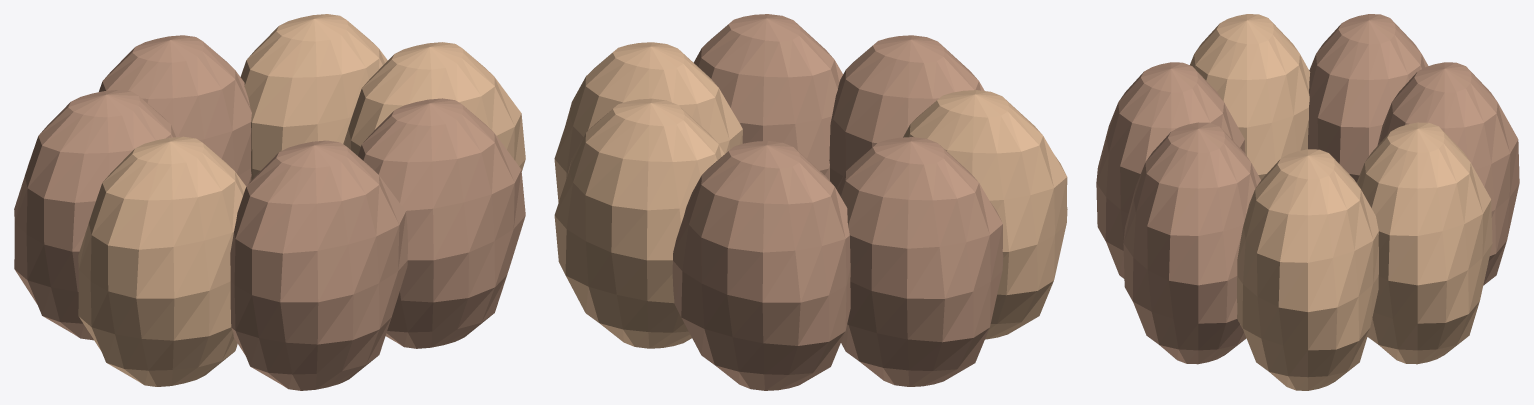
File: cocoa.glb
3 renders of one model, left to right at view 1: azimuth 30°, elevation 25°; view 2: azimuth 150°, elevation 25°; view 3: azimuth 270°, elevation 25°, orthographic. The views are drawn at different scales.
Parts seen in each view (by area): view 1: cocoa; view 2: cocoa; view 3: cocoa.
Boxes of the visible parts, x1,y1,x2,y2 form: cocoa: [14, 14, 525, 390]; cocoa: [554, 14, 1067, 390]; cocoa: [1096, 14, 1519, 390].
Bounding box in the file's own units: 1.08 × 0.54 × 0.905.
